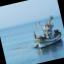fishing boat: (27, 10, 64, 51)
